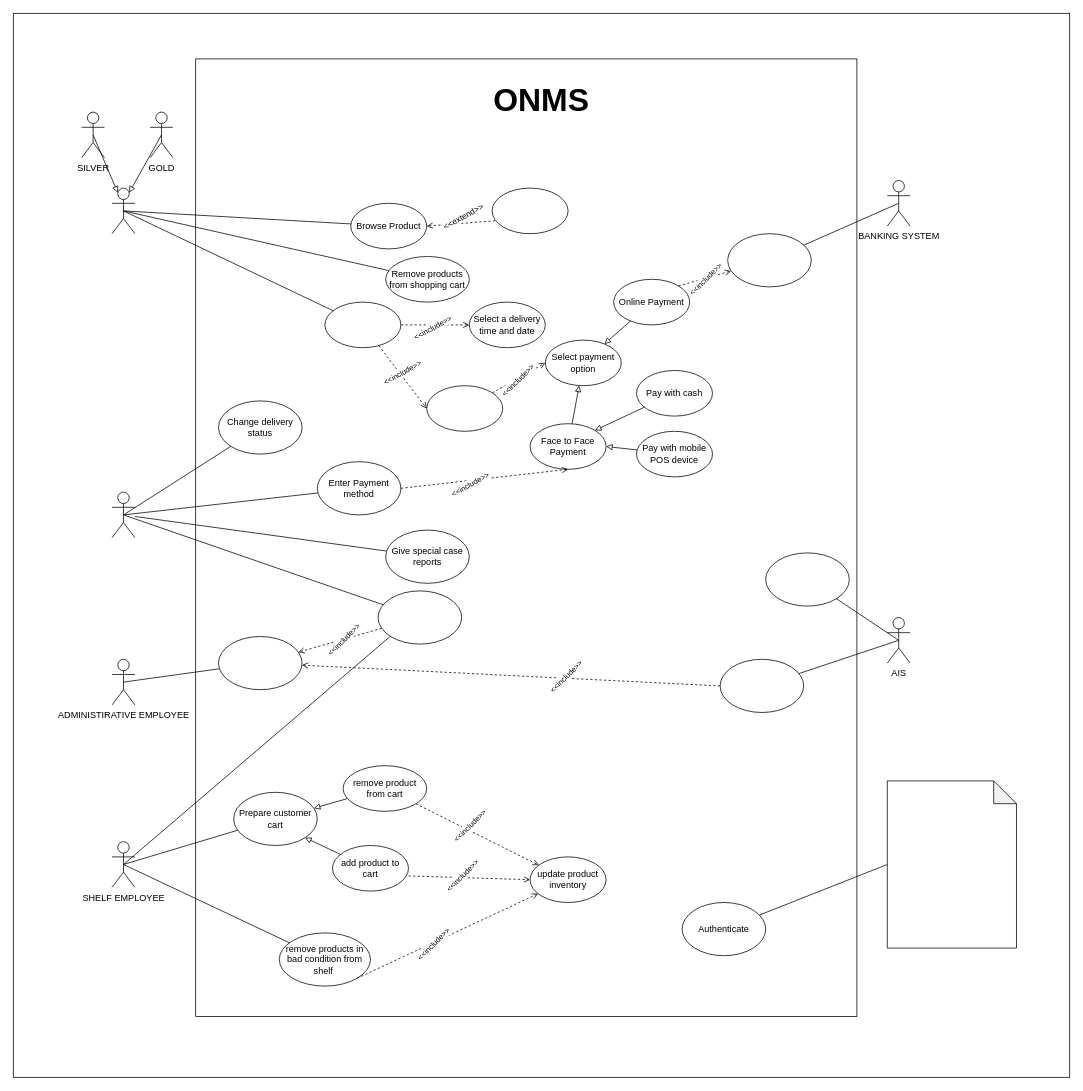
The diagram is 1083 pixels wide and 1091 high, and some of its shapes have lost their labels. Here are the shapes that lost their labels. From the top down, the centre of each, then its label:
the point at 123,210: CUSTOMER
the point at 529,210: Add products to shopping cart
the point at 769,260: Approve the credit card payment
the point at 362,324: Place an order with the existing cart
the point at 464,408: proceed to checkout
the point at 123,514: DELIVERY EMPLOYEE
the point at 807,579: Calculate salaries
the point at 419,617: Request time-off
the point at 260,663: Approve time-off request
the point at 761,685: Record the period of time off
the point at 951,864: ONMS shall authenticate customers and market personnel before using the system
